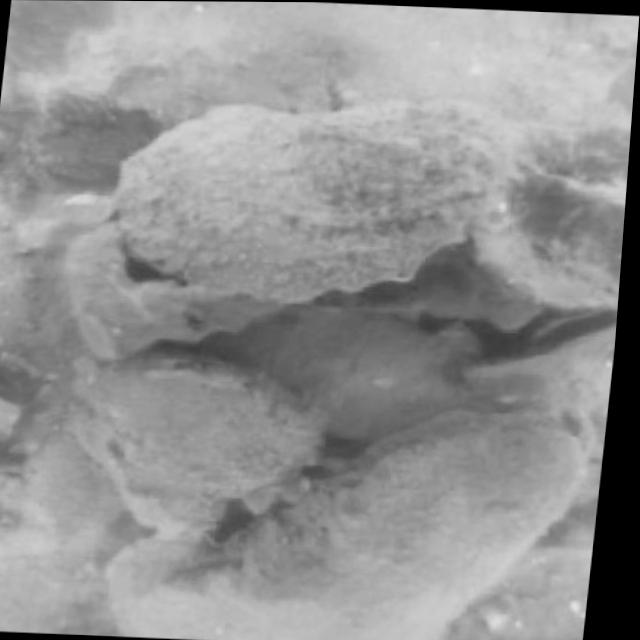Oyster-Closed: (234, 397, 599, 636), (78, 367, 322, 527)
Oyster-Indeterminate: (106, 112, 509, 308), (227, 313, 465, 438)
Oyster-Open: (522, 304, 608, 351)
